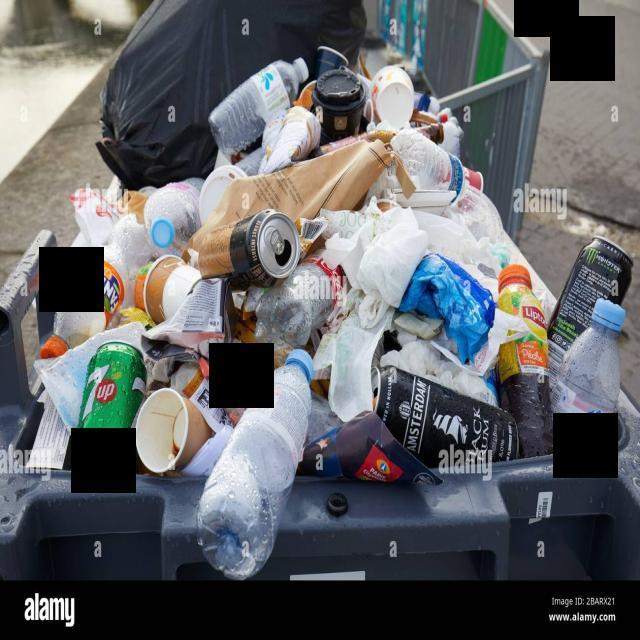Disposable: (312, 68, 365, 140)
Garbage: (24, 0, 630, 577)
Plastic: (444, 184, 504, 243)
Plastic_Bag: (99, 0, 365, 188), (324, 199, 501, 308), (34, 321, 144, 439), (399, 253, 496, 363)
Plastic_bottle: (198, 348, 314, 579), (40, 214, 154, 359), (498, 265, 559, 456), (551, 297, 625, 451), (209, 58, 309, 156), (255, 257, 342, 360), (391, 129, 464, 193), (144, 177, 204, 252)
Plastic_wraper: (144, 279, 236, 364), (259, 105, 321, 173)
can: (371, 365, 519, 471), (548, 236, 632, 388), (71, 342, 146, 472), (198, 209, 300, 287)
